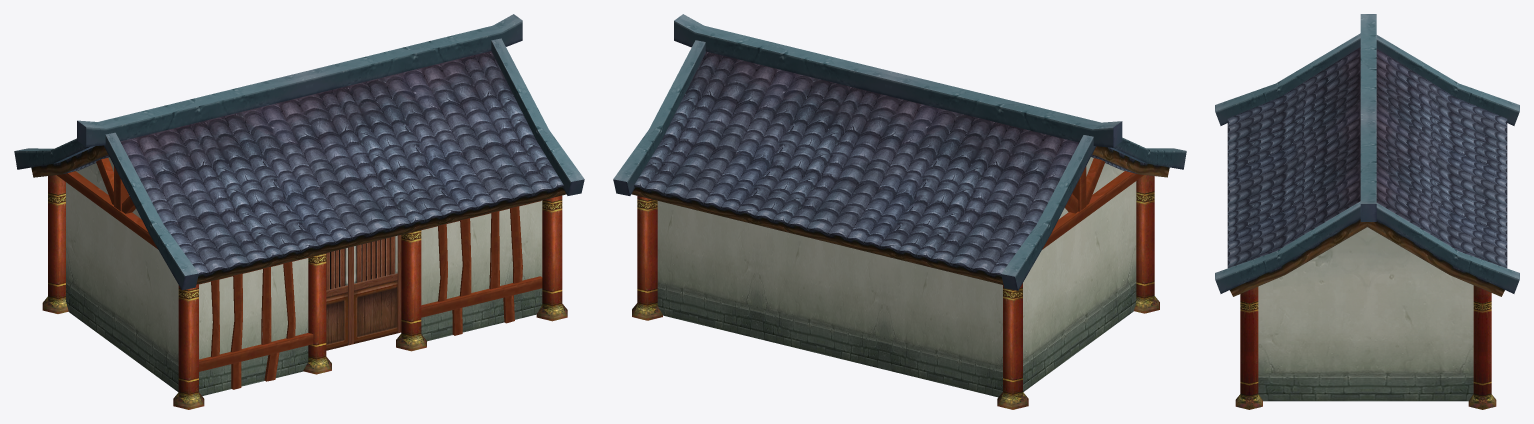
File: szc_building_08_jianzhu.FBX
3 renders of one model, left to right at view 1: azimuth 30°, elevation 25°; view 2: azimuth 150°, elevation 25°; view 3: azimuth 270°, elevation 25°, orthographic. The views are drawn at different scales.
Parts seen in each view (by area): view 1: szc_building_08_jianzhu; view 2: szc_building_08_jianzhu; view 3: szc_building_08_jianzhu.
Boxes of the visible parts, x1=… form: szc_building_08_jianzhu: x1=14, y1=14, x2=584, y2=409; szc_building_08_jianzhu: x1=613, y1=14, x2=1186, y2=409; szc_building_08_jianzhu: x1=1215, y1=14, x2=1519, y2=409.
Size of the model in its own units: 689 by 362 by 467.
